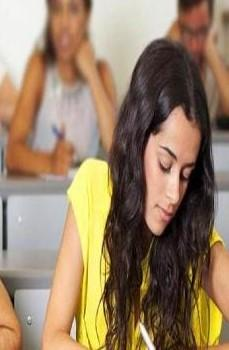good: (39, 32, 229, 350)
